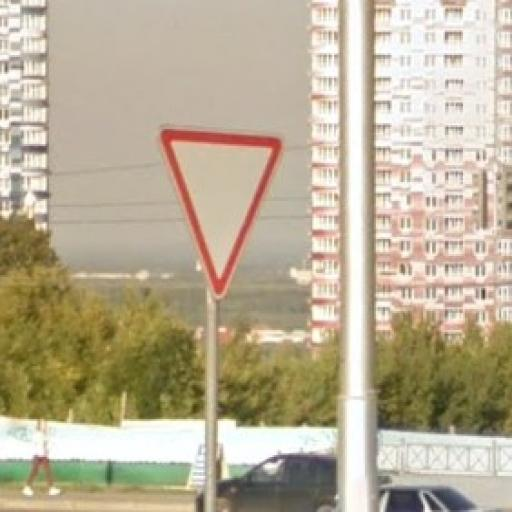traffic_sign: (155, 125, 286, 305)
